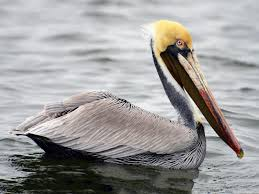pelican: (9, 19, 247, 179)
